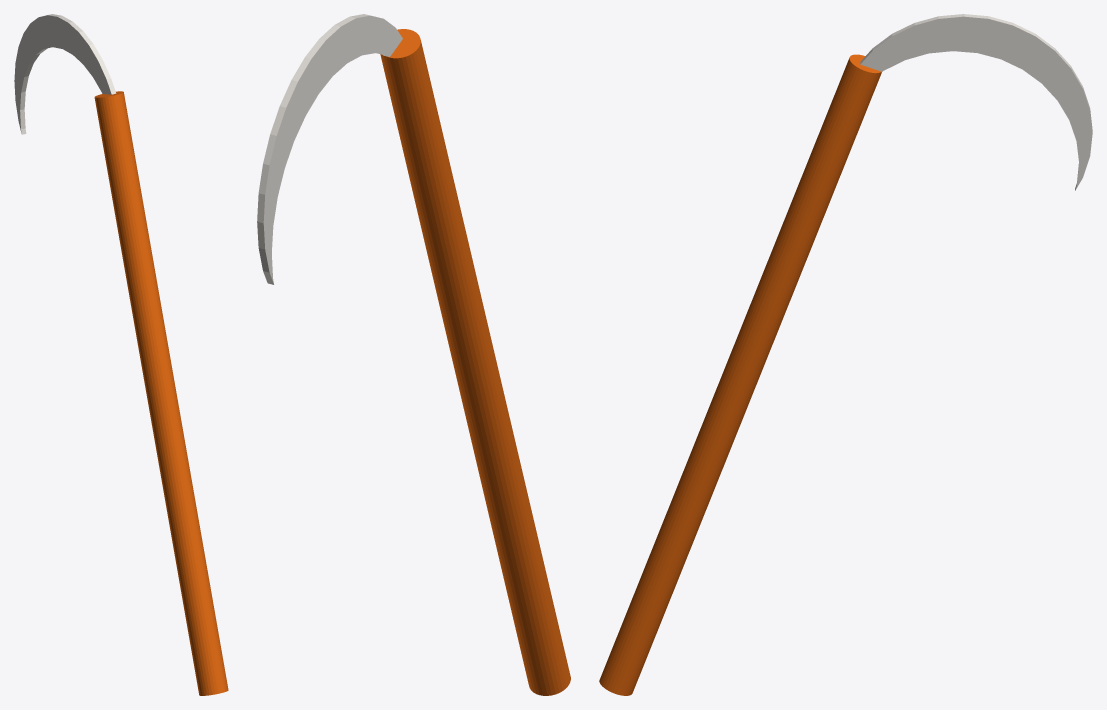
File: kama.fbx
3 views of the same model, side by side, from view 1: azimuth 30°, elevation 25°; view 2: azimuth 150°, elevation 25°; view 3: azimuth 270°, elevation 25° (orthographic). The views are drawn at different scales.
Parts seen in each view (by area): view 1: 円柱.003; view 2: 円柱.003; view 3: 円柱.003.
Boxes of the visible parts, x1,y1,x2,y2 form: 円柱.003: [14, 14, 228, 695]; 円柱.003: [257, 14, 570, 695]; 円柱.003: [599, 14, 1092, 695].
Bounding box in the file's own units: 6.47 × 136 × 89.57.
